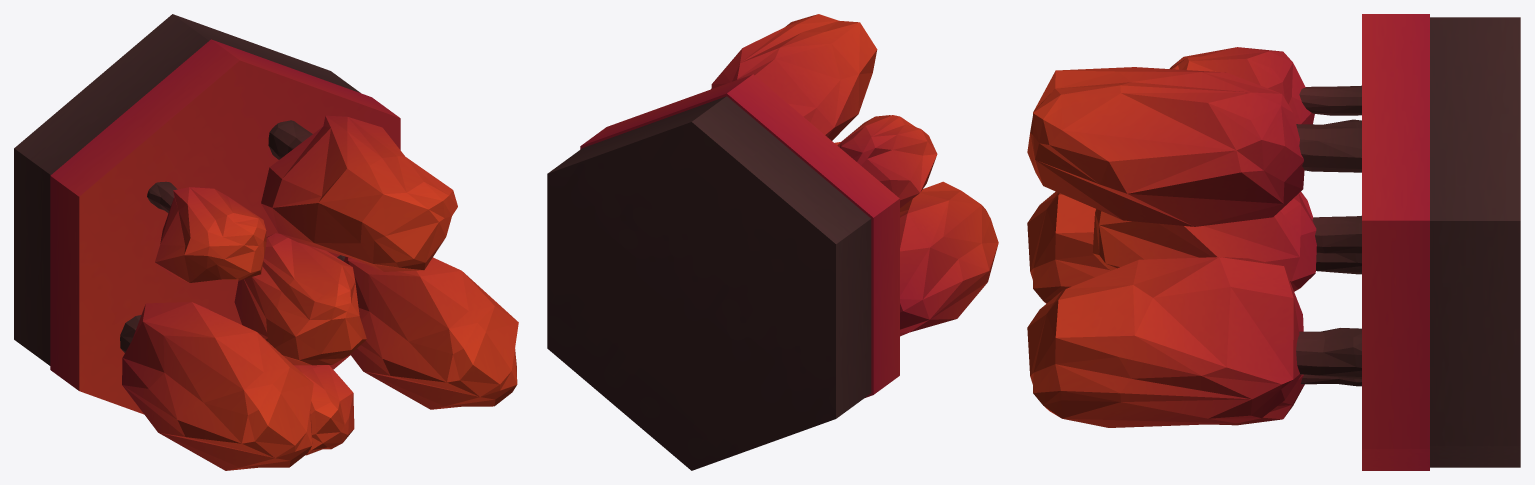
The model's file is LAUBWALD_B_BURN.fbx.
3 renders of one model, left to right at view 1: azimuth 30°, elevation 25°; view 2: azimuth 150°, elevation 25°; view 3: azimuth 270°, elevation 25°, orthographic. The views are drawn at different scales.
Visible parts, largest first — view 1: LAUBWALD_B_BURN; view 2: LAUBWALD_B_BURN; view 3: LAUBWALD_B_BURN.
Part boxes in pixels (x1=…): LAUBWALD_B_BURN: x1=14, y1=14, x2=518, y2=470; LAUBWALD_B_BURN: x1=547, y1=14, x2=998, y2=470; LAUBWALD_B_BURN: x1=1027, y1=14, x2=1520, y2=470.
Size of the model in its own units: 172 by 199 by 194.
